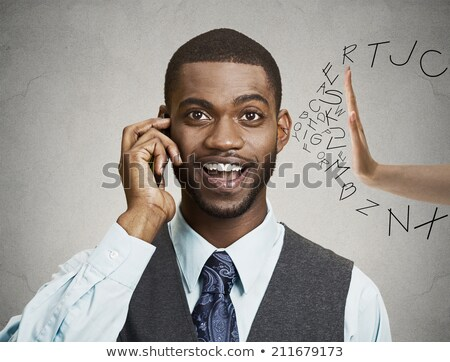phone: (131, 119, 175, 194)
talk: (111, 85, 271, 227)
